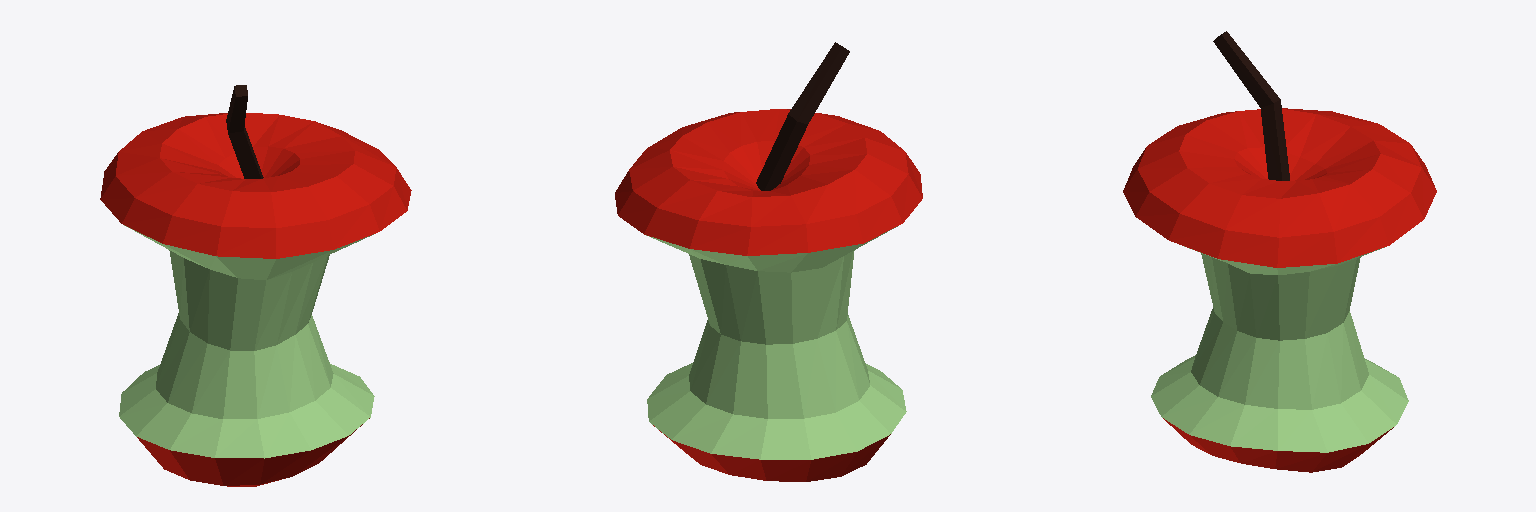
File: apple1.obj
The picture shows the model from 3 angles: view 1: azimuth 30°, elevation 25°; view 2: azimuth 150°, elevation 25°; view 3: azimuth 270°, elevation 25°; orthographic projection.
Parts seen in each view (by area): view 1: Plane.001; view 2: Plane.001; view 3: Plane.001.
Part boxes in pixels (x1,y1,x2,y2): Plane.001: (100, 85, 411, 486); Plane.001: (615, 42, 922, 481); Plane.001: (1123, 31, 1436, 472).
Bounding box in the file's own units: 0.4797 × 0.6869 × 0.4846.